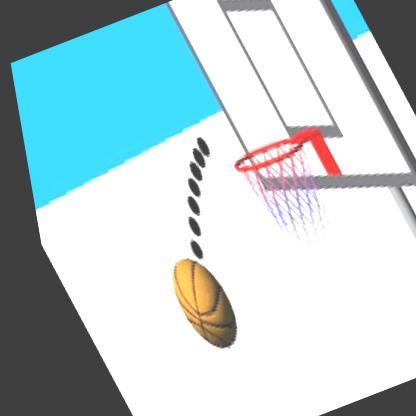basketball: (143, 246, 244, 363)
rim: (218, 129, 305, 181)
